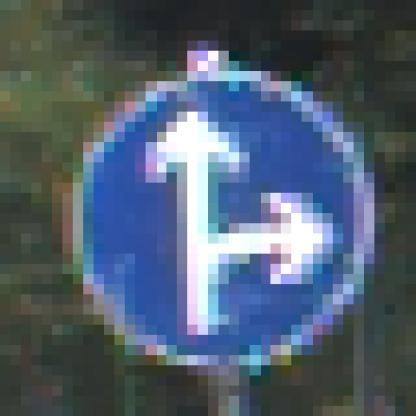Straight or Right: (63, 62, 365, 356)
